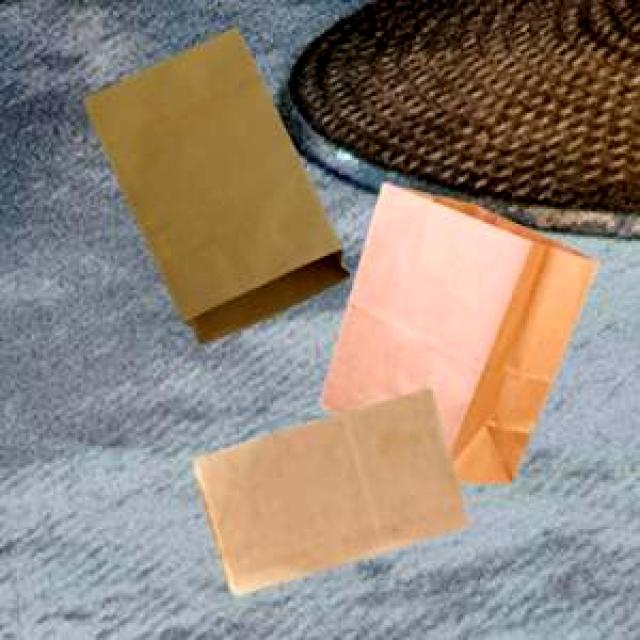Paper_Bag: (80, 25, 347, 342), (316, 180, 594, 481), (193, 385, 466, 592)
